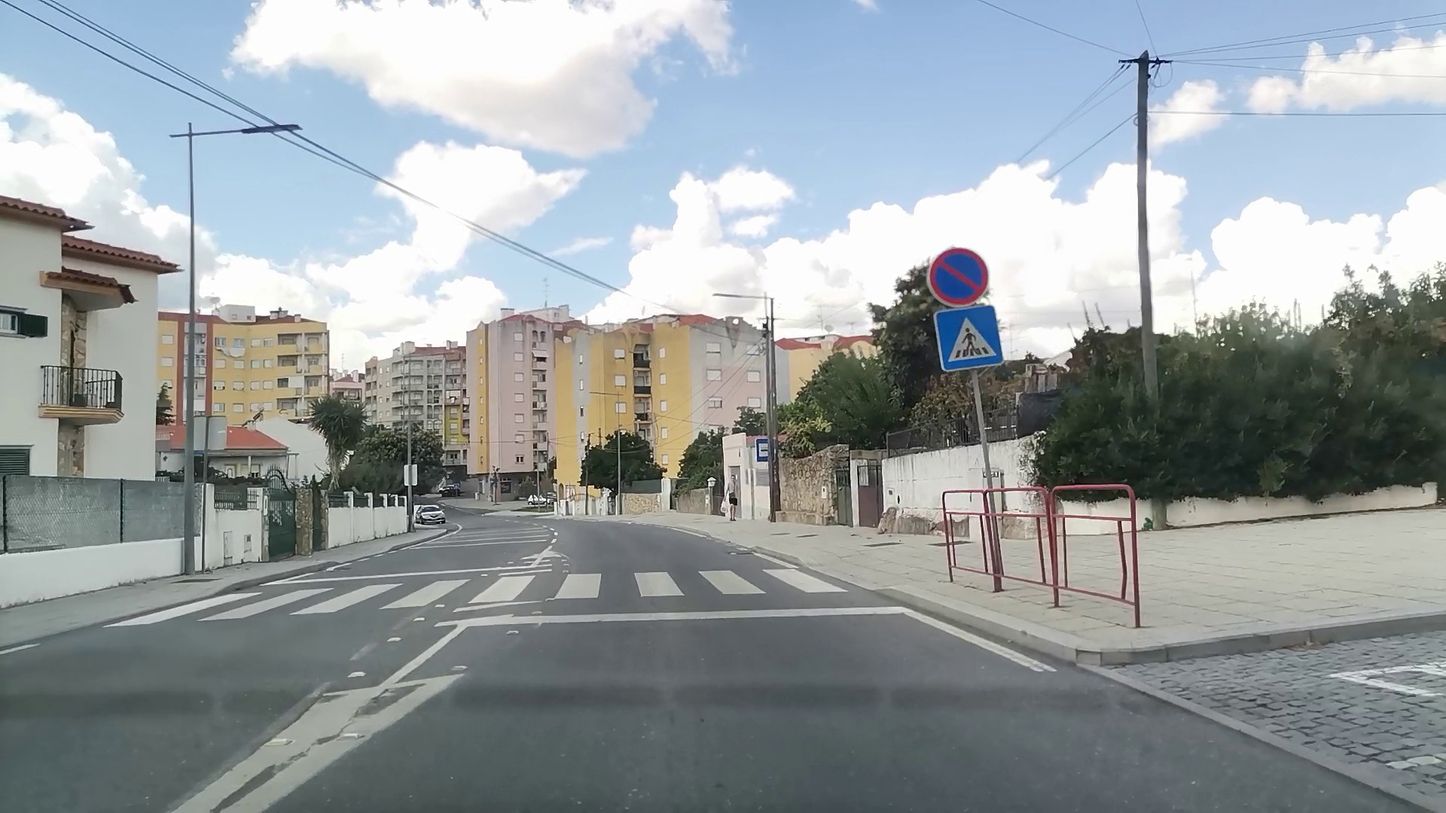Stairs: (107, 566, 852, 630)
